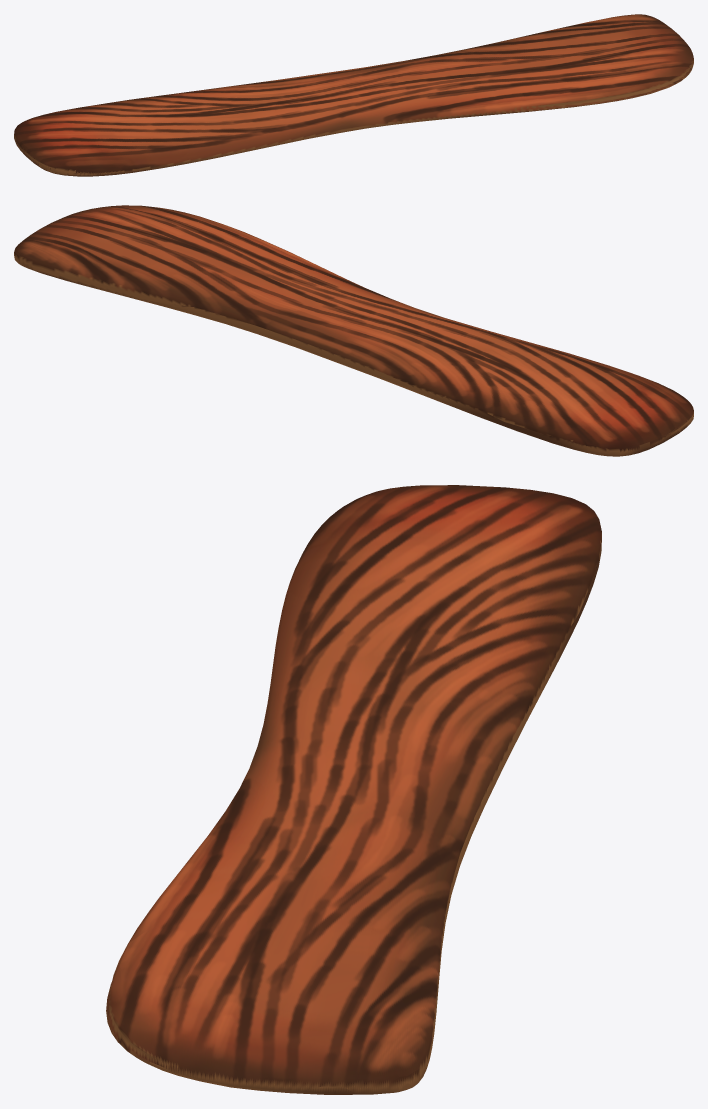
The model's file is Town_BridgeSet_1.glb.
3 renders of one model, top to bottom at view 1: azimuth 30°, elevation 25°; view 2: azimuth 150°, elevation 25°; view 3: azimuth 270°, elevation 25°, orthographic. The views are drawn at different scales.
Visible parts, largest first — view 1: Plane; view 2: Plane; view 3: Plane.
Boxes of the visible parts, x1=… form: Plane: x1=14, y1=14, x2=693, y2=176; Plane: x1=14, y1=205, x2=693, y2=456; Plane: x1=106, y1=485, x2=601, y2=1094.
Bounding box in the file's own units: 1.97 × 0.0585 × 0.6937.
Materials: 1 (1 with a texture image).
